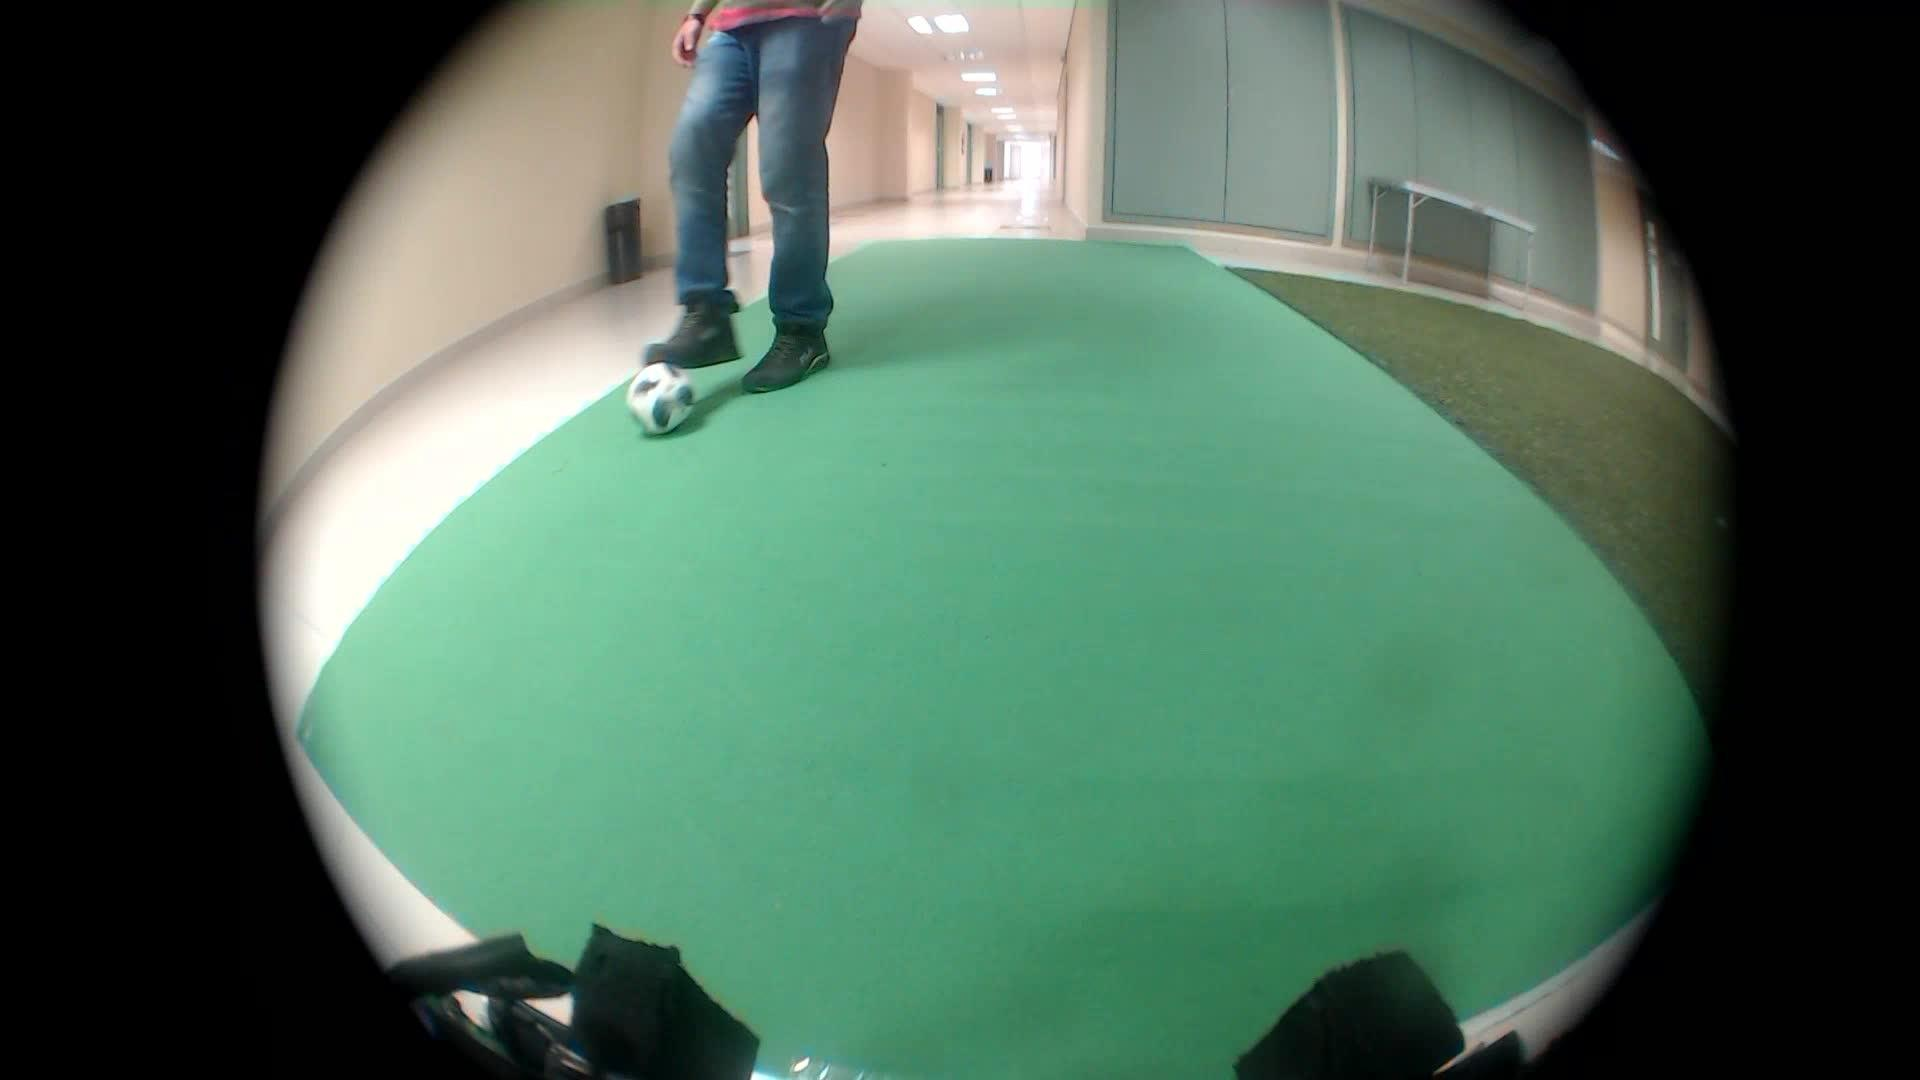ball: (618, 357, 708, 439)
